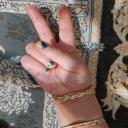PeaceSign: (18, 4, 94, 98)
